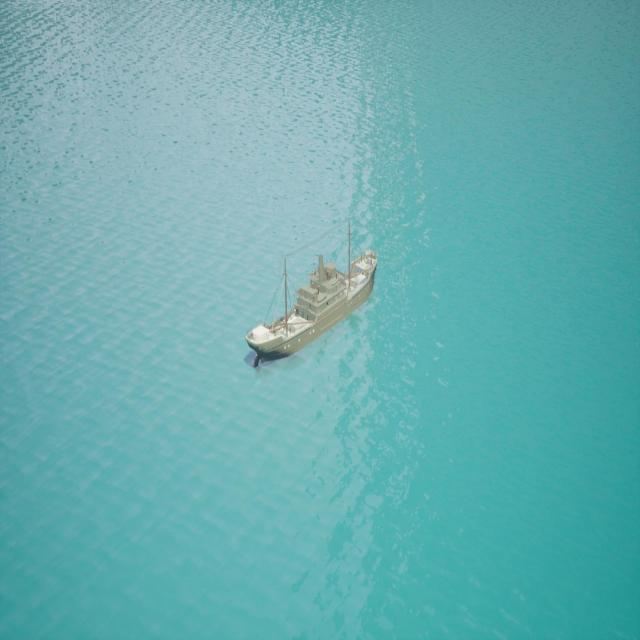fishing ship: (246, 254, 379, 369)
